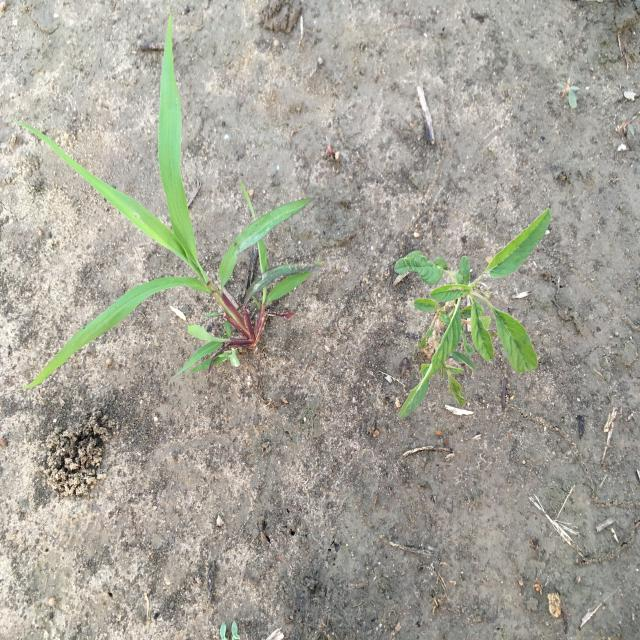Goosegrass: (10, 9, 327, 393)
Waterhemp: (392, 206, 552, 421)
